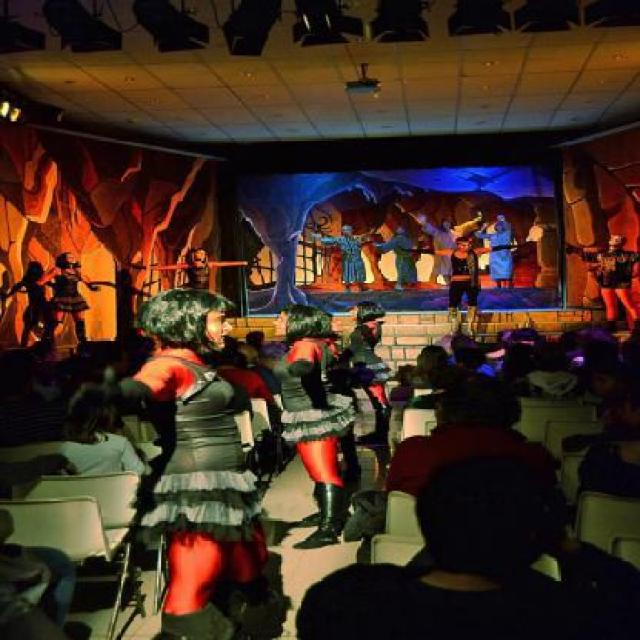Person: (296, 323, 638, 639), (71, 283, 291, 639), (0, 393, 172, 639), (265, 303, 369, 552), (396, 232, 536, 337), (335, 298, 402, 444), (560, 234, 638, 337), (13, 249, 89, 346), (123, 244, 260, 290), (414, 209, 481, 288), (311, 224, 372, 293), (471, 213, 523, 292), (369, 224, 426, 293)
